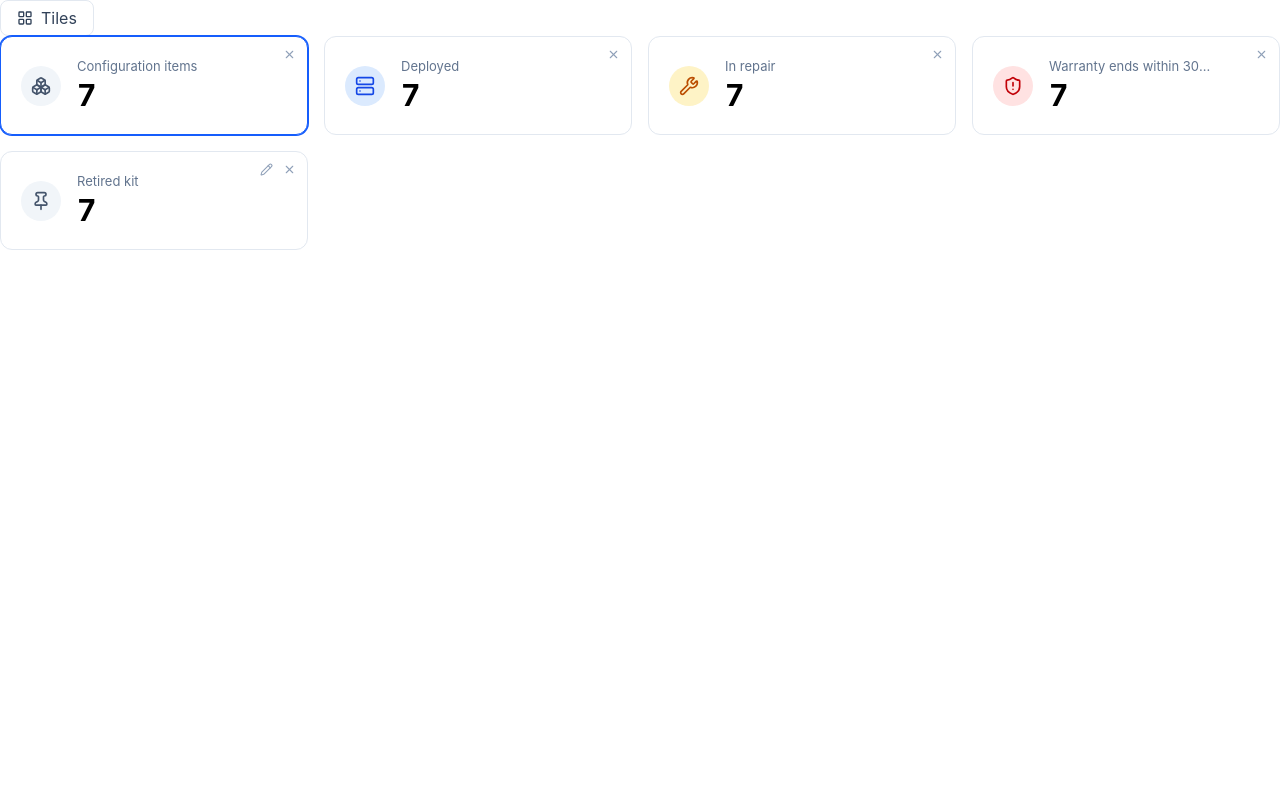
arranging the tiles › renames a pinned tile and leaves built-ins alone
Expected: the text "Retired kit" is shown, left=77, top=173, right=139, bottom=189
Click the button named "Edit Retired kit": (266, 170) left=256, top=159, right=277, bottom=180
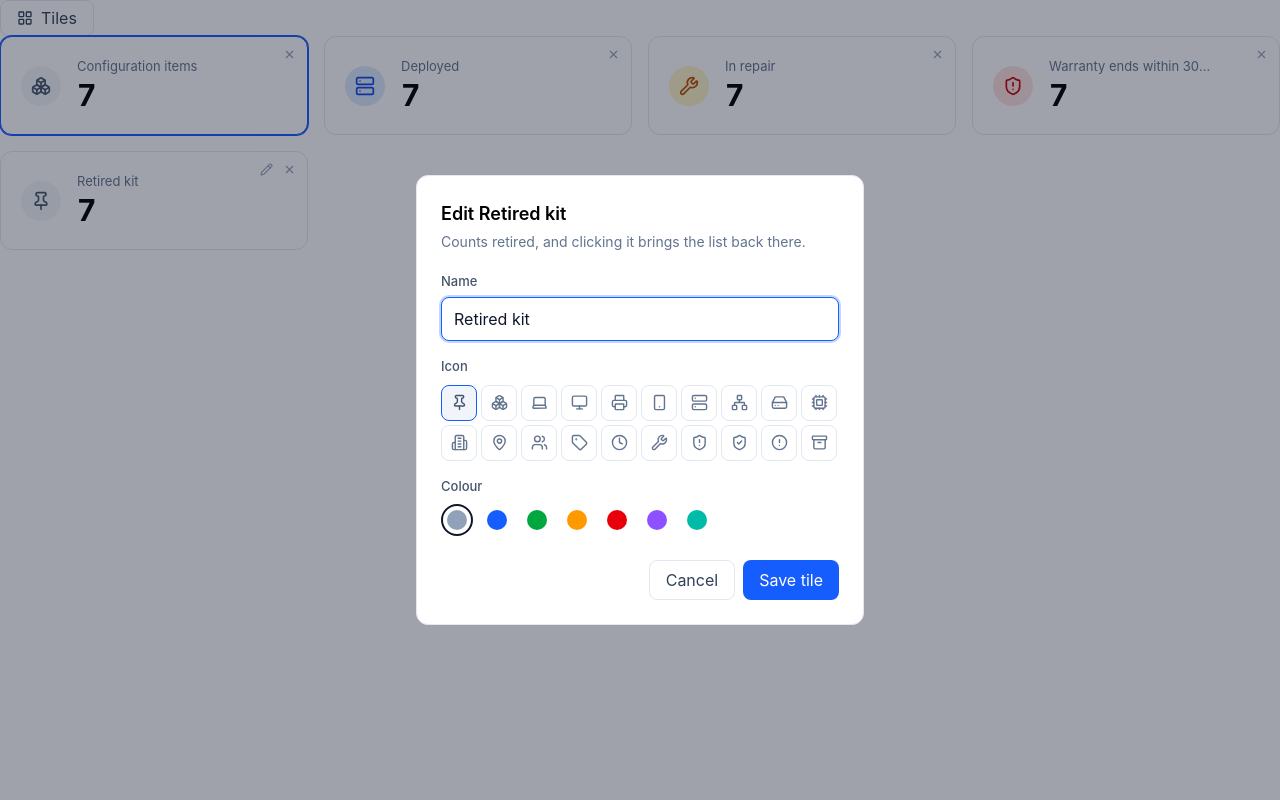
Replace the text in the field labelled "Name" with "Awaiting disposal": (640, 319) left=441, top=297, right=839, bottom=341
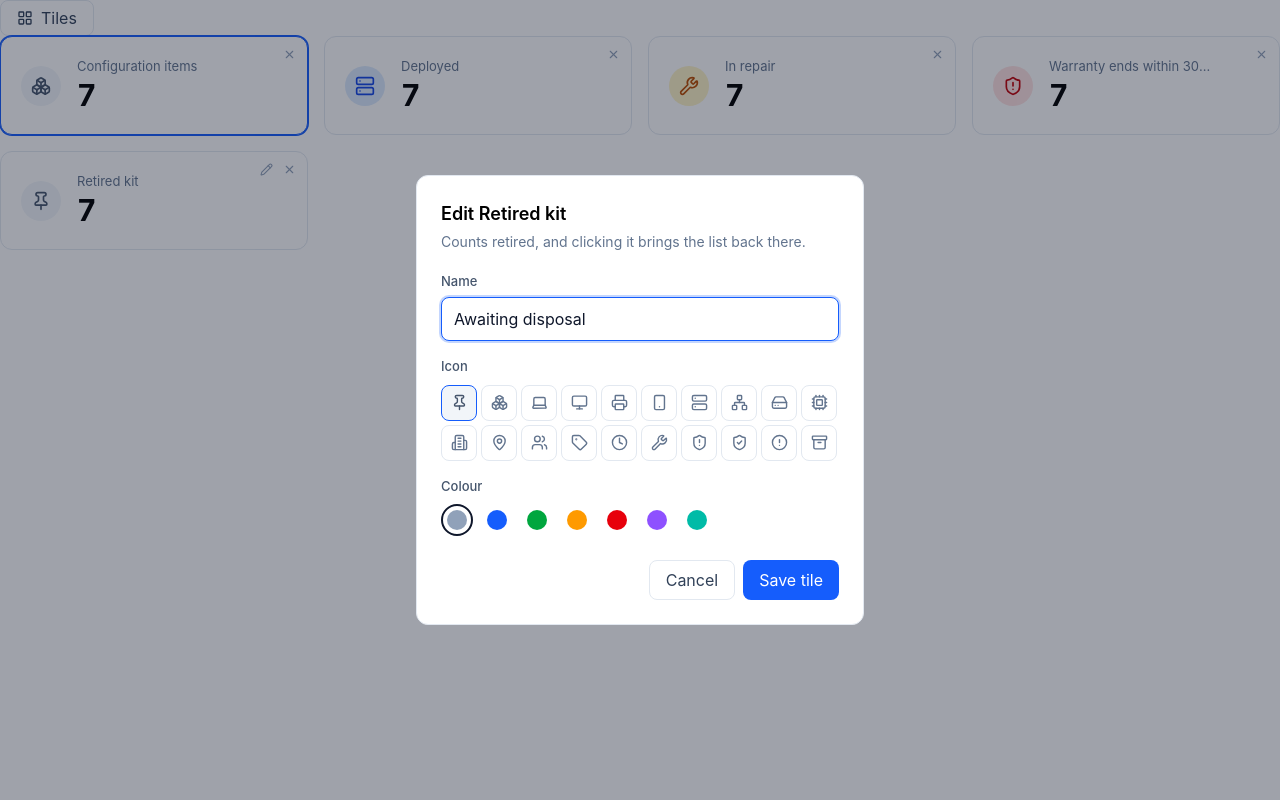
Click the button "Save tile": (791, 580) left=743, top=560, right=839, bottom=600
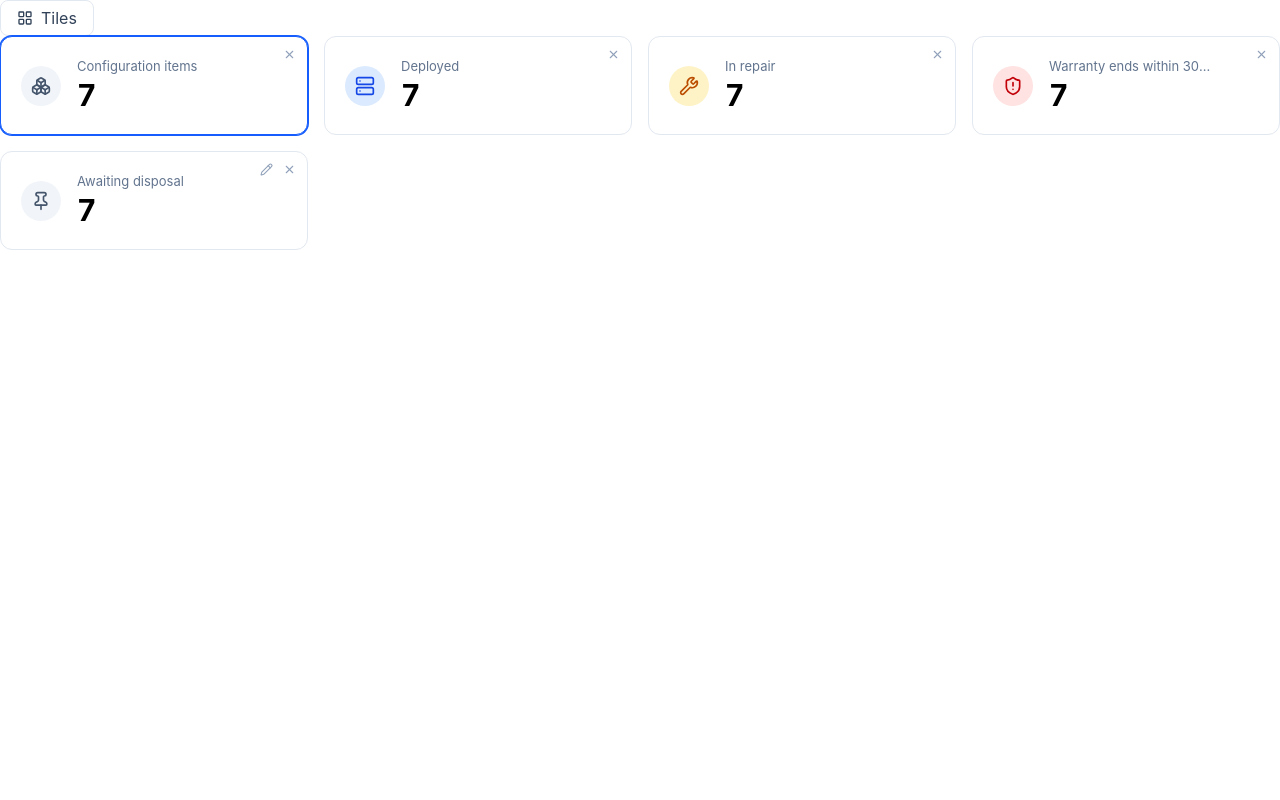
Expected: the text "Awaiting disposal" is shown, left=77, top=173, right=184, bottom=189
Expected: the button "Retired kit" is gone
